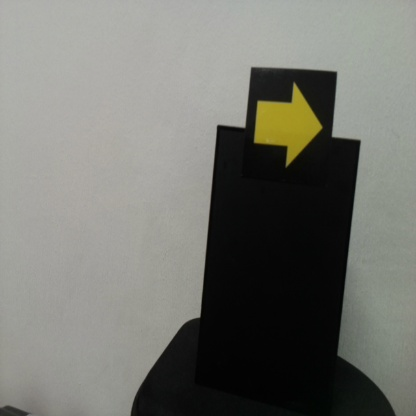id_3: (250, 70, 334, 181)
